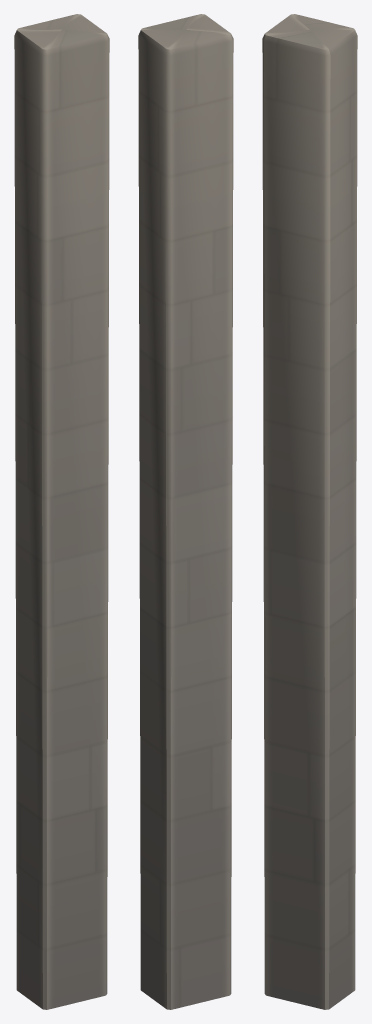
The model's file is ext_5x4.glb.
3 views of the same model, side by side, from view 1: azimuth 30°, elevation 25°; view 2: azimuth 210°, elevation 25°; view 3: azimuth 330°, elevation 25° (orthographic).
Visible parts, largest first — view 1: ext_5x4.001; view 2: ext_5x4.001; view 3: ext_5x4.001.
Part boxes in pixels (x1,y1,x2,y2): ext_5x4.001: (14,14,109,1009); ext_5x4.001: (138,14,233,1009); ext_5x4.001: (262,14,357,1009).
Bounding box in the file's own units: 2.95 × 40 × 2.35.
Materials: 1 (1 with a texture image).
